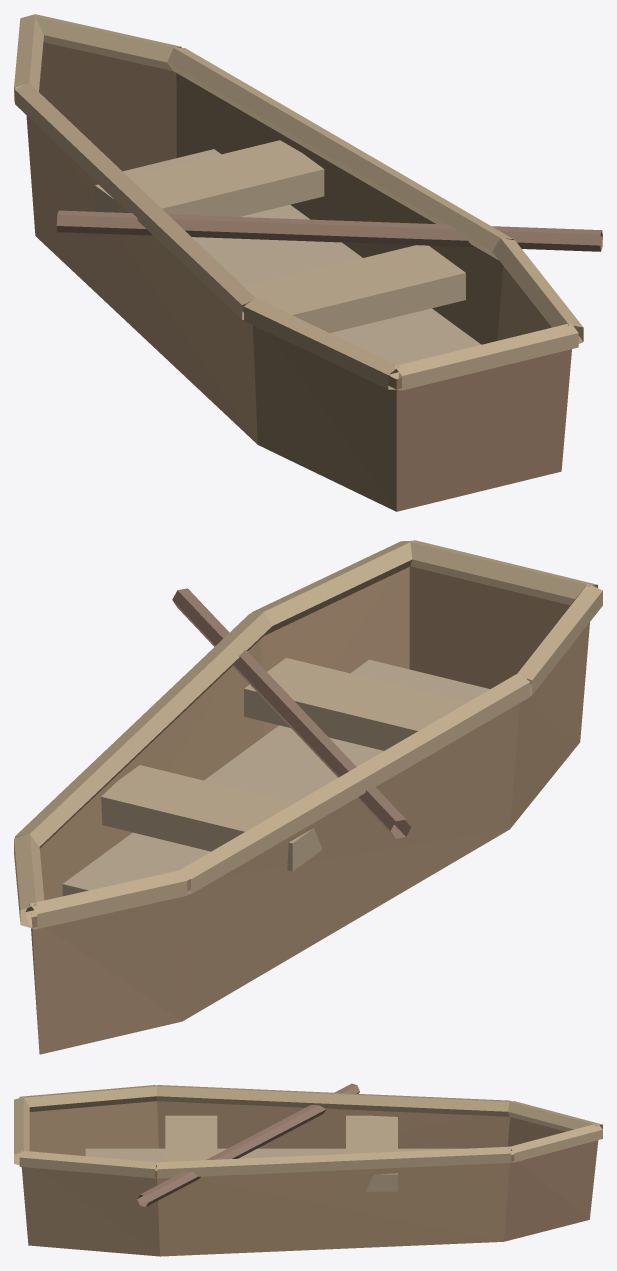
The picture shows the model from 3 angles, top to bottom: view 1: azimuth 30°, elevation 25°; view 2: azimuth 150°, elevation 25°; view 3: azimuth 270°, elevation 25°; orthographic projection. The views are drawn at different scales.
Parts seen in each view (by area): view 1: H08; view 2: H08; view 3: H08.
Part boxes in pixels (<box>): H08: <box>14,14,602,511</box>; H08: <box>14,540,602,1054</box>; H08: <box>14,1083,602,1256</box>.
Size of the model in its own units: 0.8243 by 0.3038 by 1.7.
